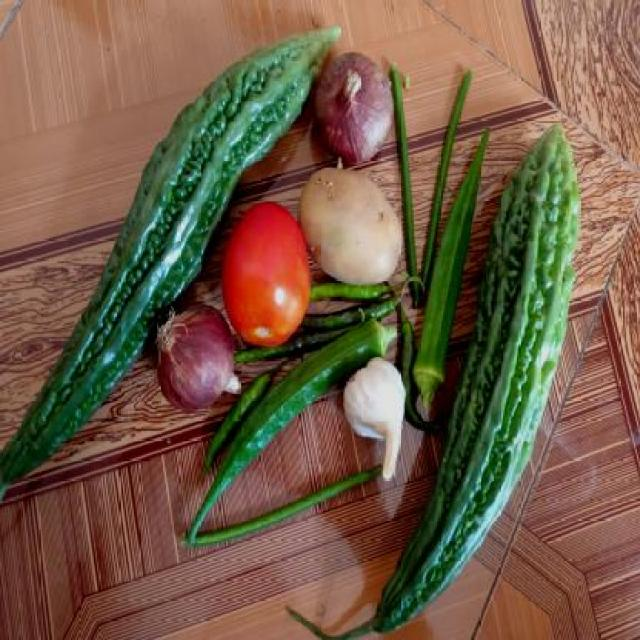Bitter melon: (460, 135, 569, 548)
Garlic: (343, 355, 408, 488)
Green Chili: (305, 283, 403, 329)
Lady finger: (411, 134, 466, 401)
Onion: (154, 306, 243, 412), (317, 55, 397, 163)
Potato: (296, 165, 406, 282)
Tomato: (232, 206, 306, 348)
